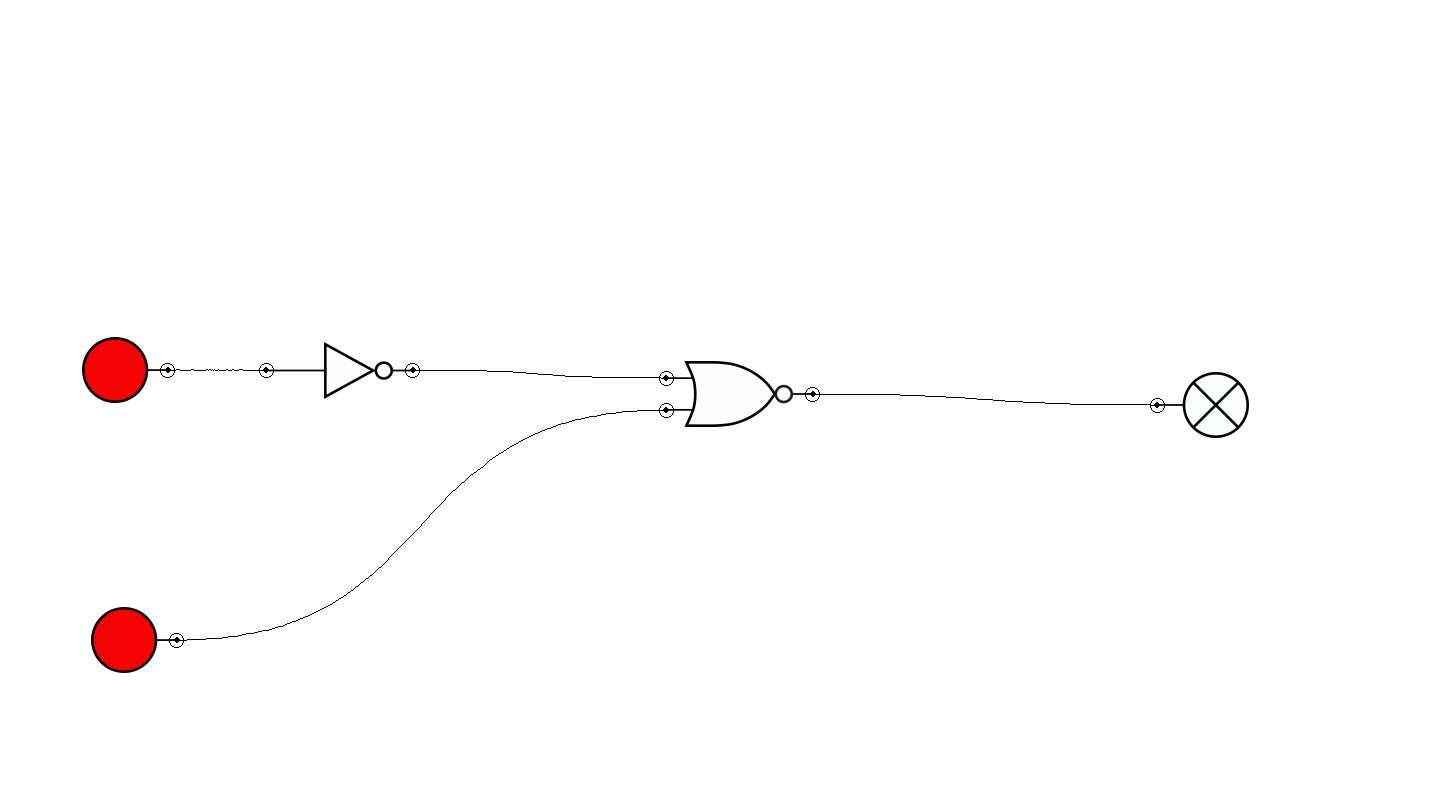bulb: (1150, 372, 1249, 438)
nor: (659, 361, 820, 427)
not: (259, 342, 420, 399)
switch_False: (82, 337, 175, 403), (91, 607, 184, 673)
